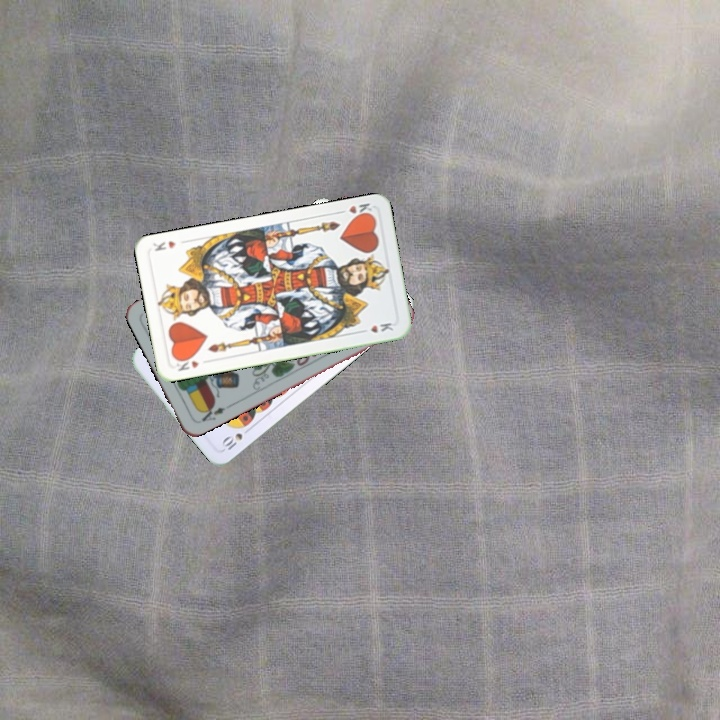EA: (196, 400, 233, 424)
HK: (334, 199, 376, 221), (172, 353, 202, 374)
S10: (218, 429, 245, 453)
